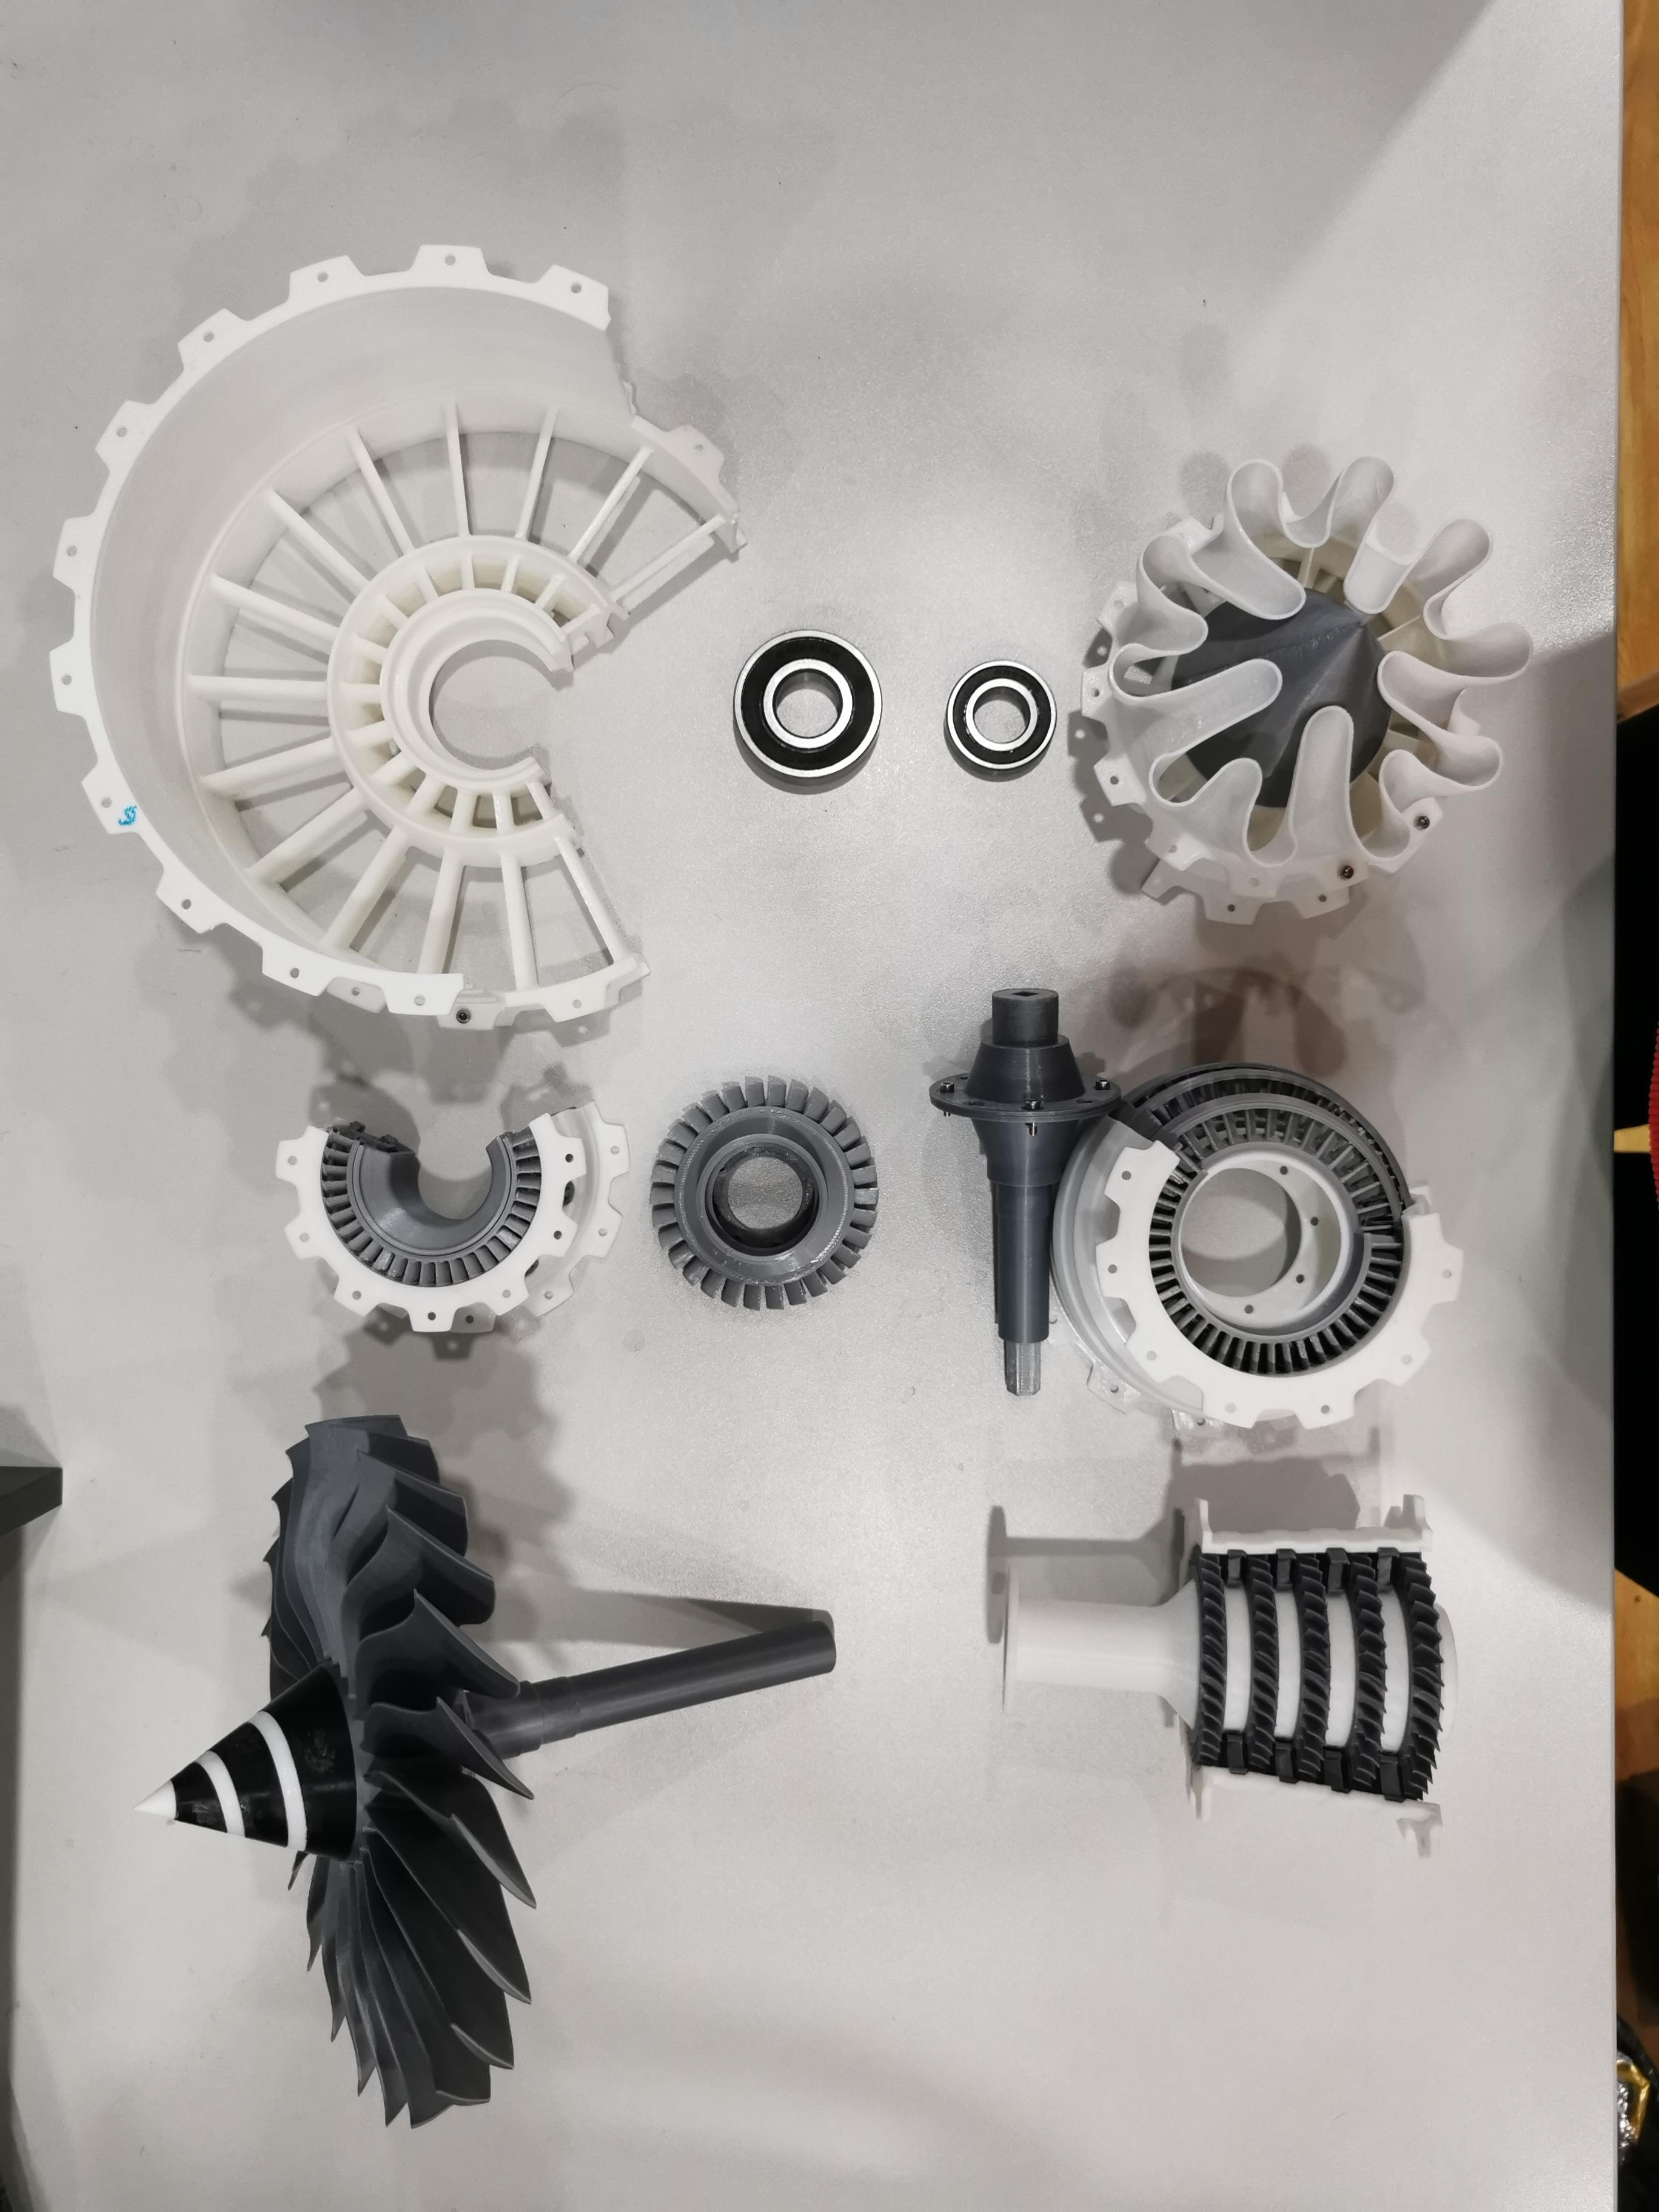Bearing-6003: (918, 629, 1073, 808)
Bearing-6204: (727, 606, 899, 813)
Combustion Section: (240, 1092, 636, 1376)
Fan Casing and Support: (38, 230, 763, 1043)
Fan and Low Pressure Shaft: (110, 1407, 845, 2130)
HPT Section: (640, 1061, 890, 1359)
High Pressure Spool: (958, 1489, 1502, 1867)
LPT Section: (1049, 1043, 1478, 1456)
Low Pressure Spool: (901, 963, 1129, 1421)
Nozzle Section: (1070, 434, 1540, 939)
